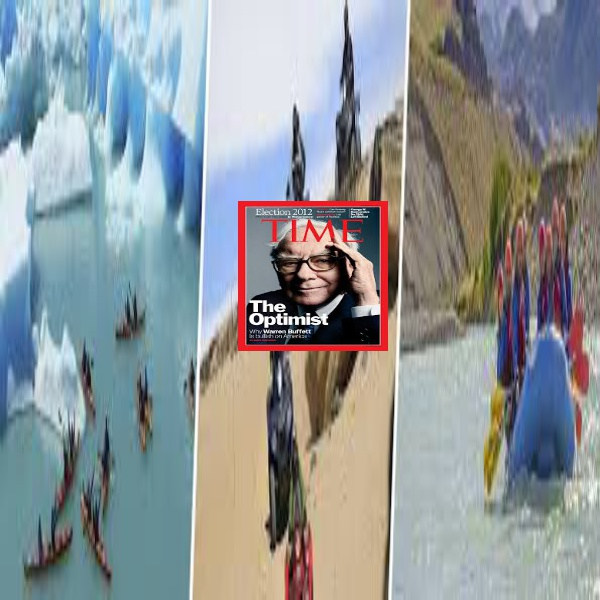time_cover: (235, 191, 391, 353)
